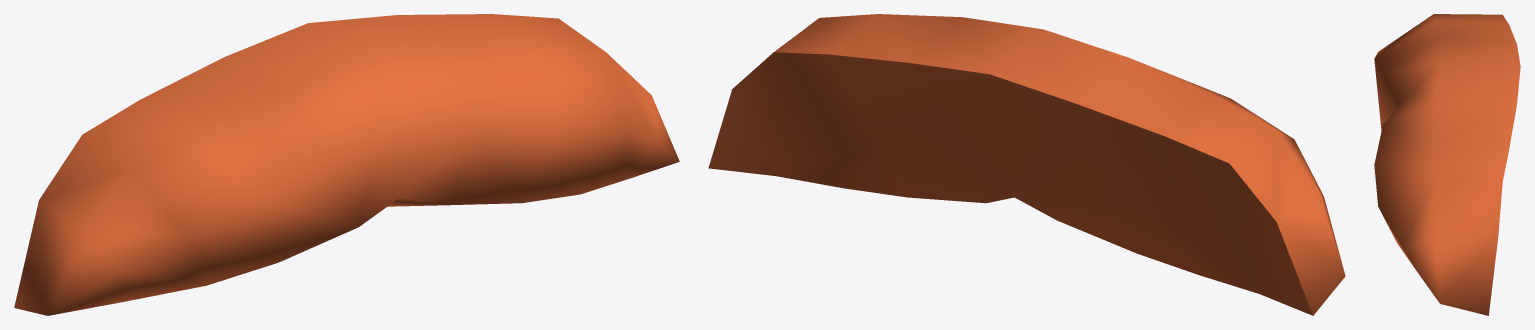
The model's file is Mustache_15.fbx.
The picture shows the model from 3 angles, left to right: view 1: azimuth 30°, elevation 25°; view 2: azimuth 150°, elevation 25°; view 3: azimuth 270°, elevation 25°; orthographic projection. The views are drawn at different scales.
Visible parts, largest first — view 1: Mustache_15; view 2: Mustache_15; view 3: Mustache_15.
Boxes of the visible parts, bbox=[...] form: Mustache_15: bbox=[14, 14, 679, 315]; Mustache_15: bbox=[708, 14, 1345, 315]; Mustache_15: bbox=[1374, 14, 1520, 315].
Bounding box in the file's own units: 26.47 × 7.9 × 7.36.
